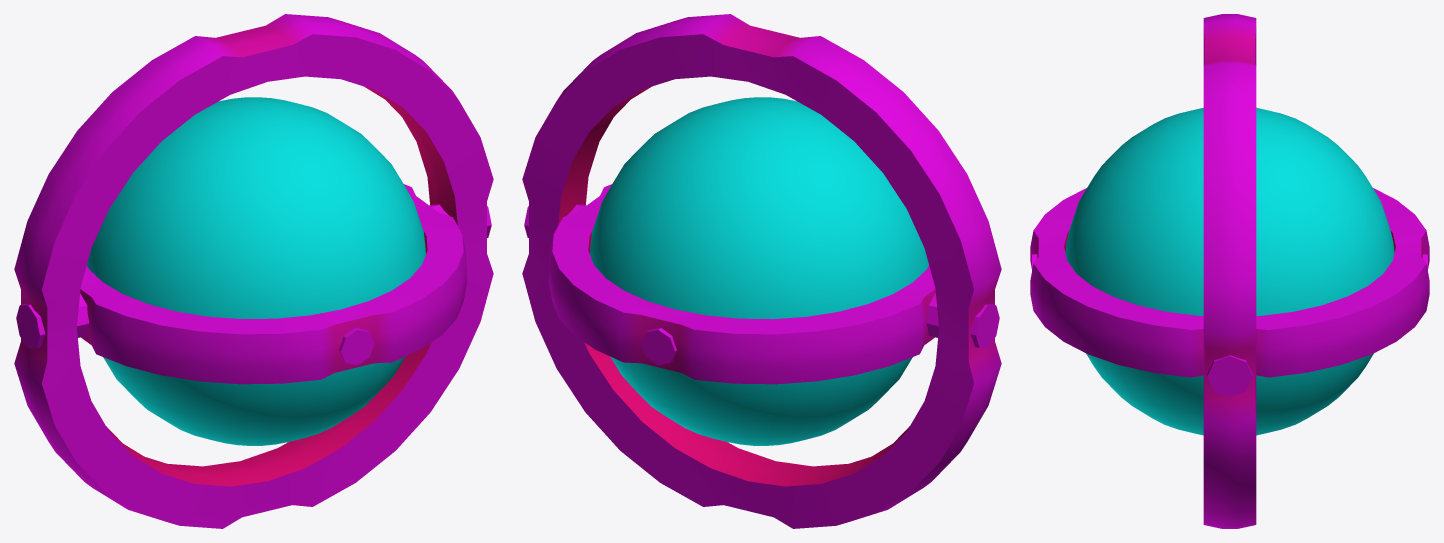
File: Ball Heart.fbx
3 renders of one model, left to right at view 1: azimuth 30°, elevation 25°; view 2: azimuth 150°, elevation 25°; view 3: azimuth 270°, elevation 25°, orthographic. The views are drawn at different scales.
Visible parts, largest first — view 1: Circle; view 2: Circle; view 3: Circle.
Boxes of the visible parts, x1,y1,x2,y2 form: Circle: (14,14,493,528); Circle: (522,14,1001,528); Circle: (1030,14,1429,528).
Size of the model in its own units: 75.88 by 75.88 by 59.93.
